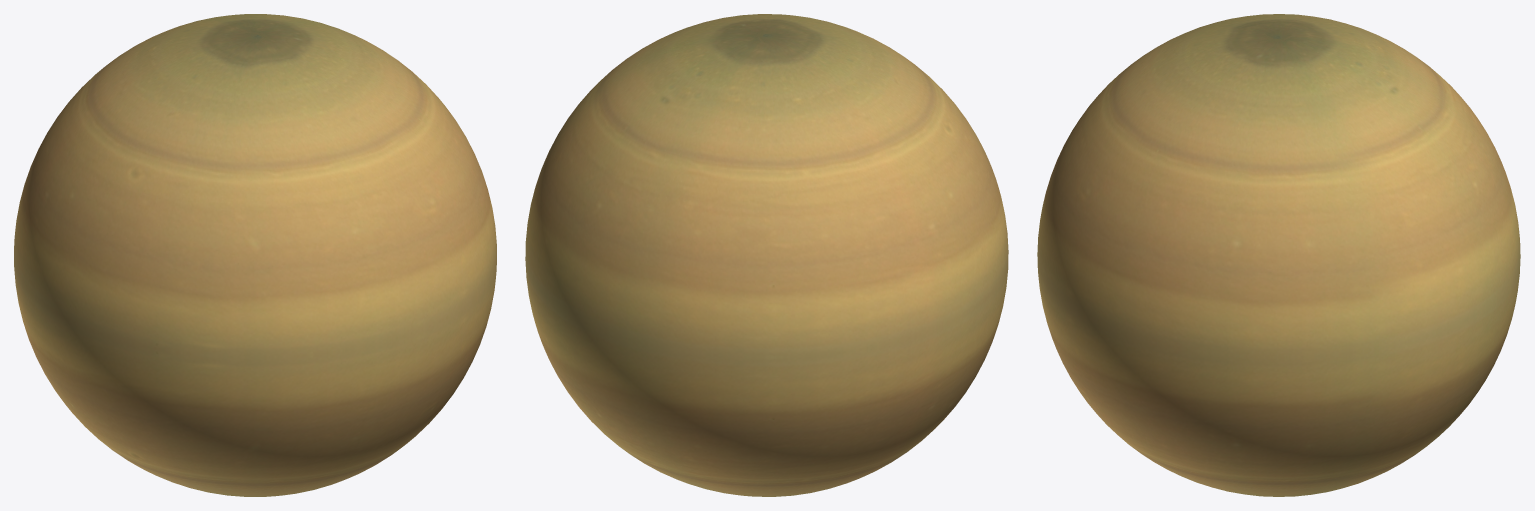
The picture shows the model from 3 angles, left to right: view 1: azimuth 30°, elevation 25°; view 2: azimuth 150°, elevation 25°; view 3: azimuth 270°, elevation 25°; orthographic projection.
Parts seen in each view (by area): view 1: Tierra.006; view 2: Tierra.006; view 3: Tierra.006.
Part boxes in pixels (x1,y1,x2,y2): Tierra.006: (14,14,496,496); Tierra.006: (525,14,1008,496); Tierra.006: (1037,14,1520,496).
Bounding box in the file's own units: 18 × 18 × 18.
1 material, 1 textured.
